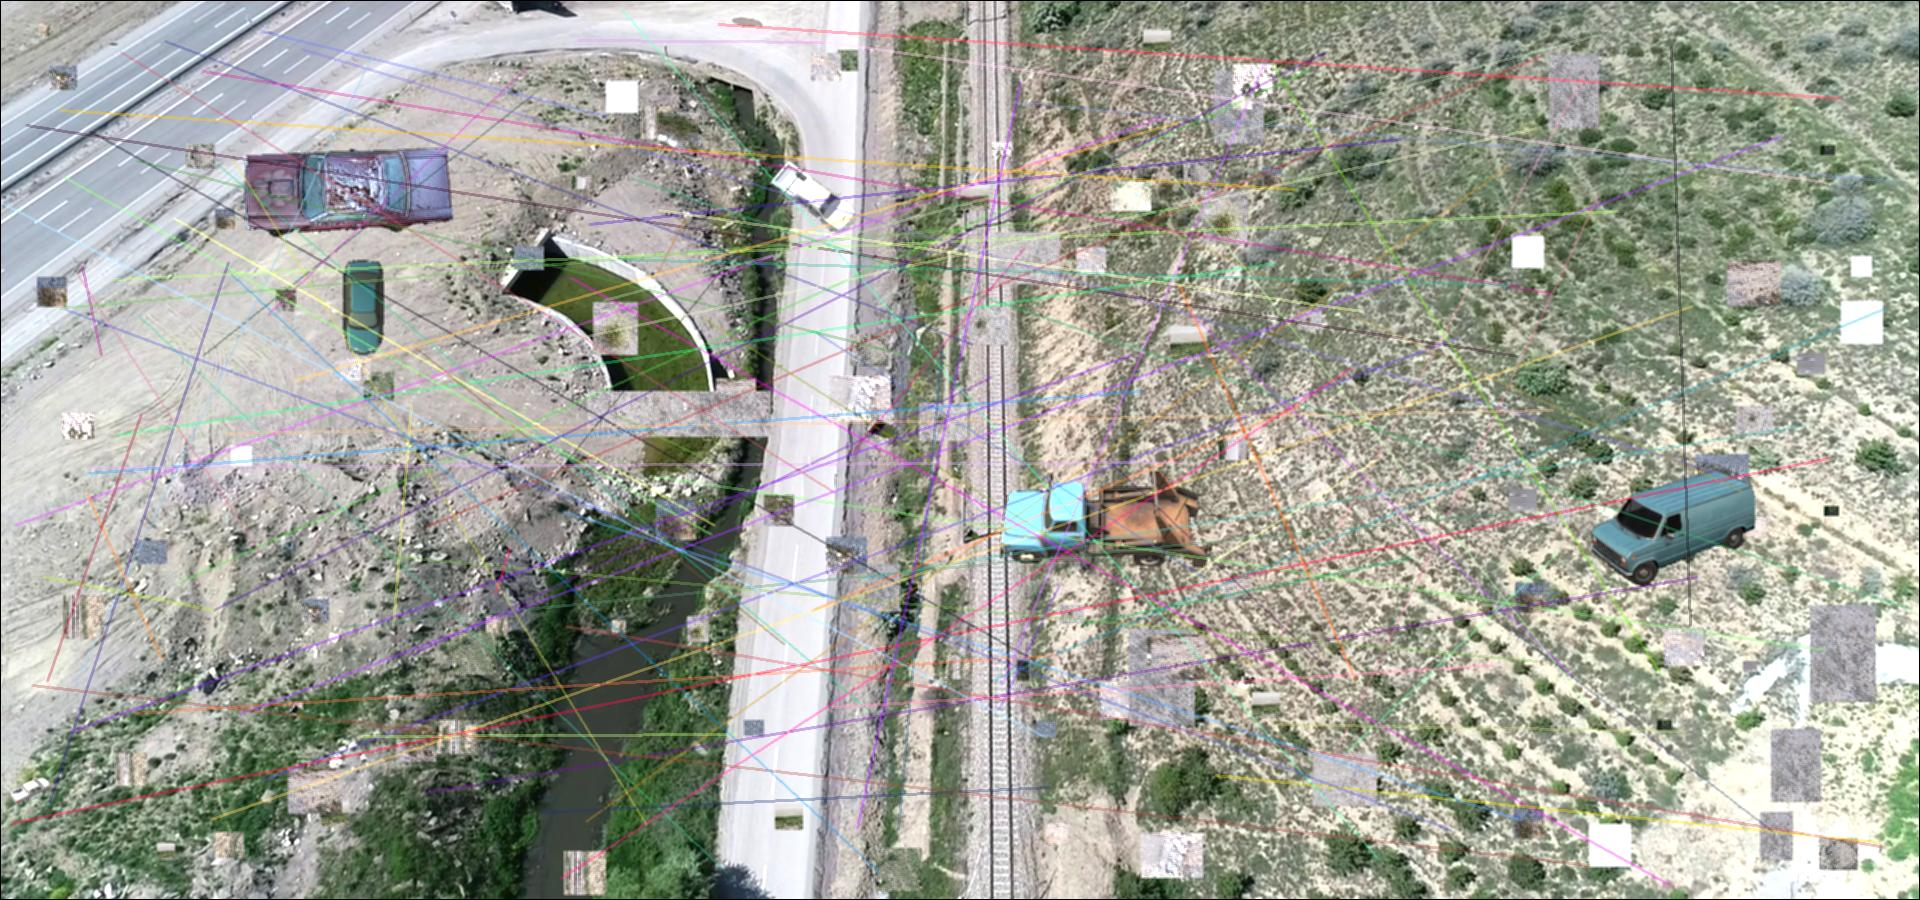arac: (1000, 471, 1209, 573), (239, 144, 453, 238), (1588, 468, 1755, 587), (767, 160, 860, 231), (342, 258, 388, 358), (10, 778, 50, 804)
